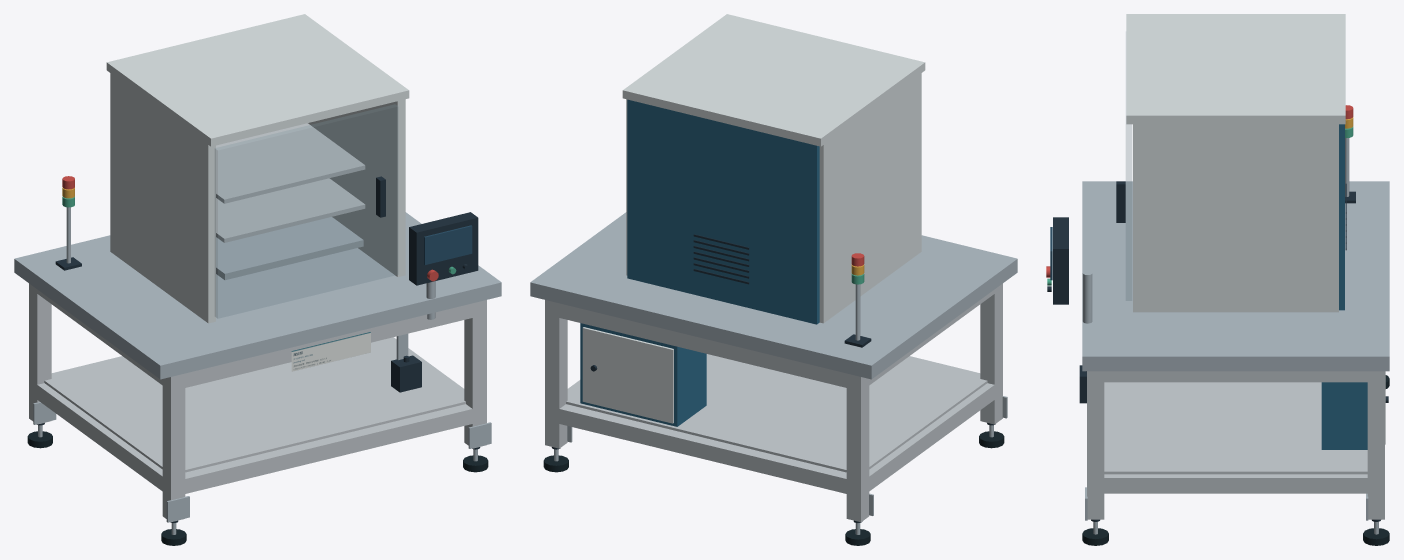
File: proofing-cell.glb
3 renders of one model, left to right at view 1: azimuth 30°, elevation 25°; view 2: azimuth 150°, elevation 25°; view 3: azimuth 270°, elevation 25°, orthographic. The views are drawn at different scales.
Parts seen in each view (by area): view 1: ClosedMachineBed_28, DoorFrame_52, LowerShelf_29, ClosedRoof_51, EnclosureSide_48, EnclosureSide_49, InternalRack_56, SlottedExtrusion_22, InternalRack_55, ProcessShelf_54, SlottedExtrusion_23, SlottedExtrusion_8 (+8 smaller); view 2: ClosedBack_50, ClosedMachineBed_28, ClosedRoof_51, LowerShelf_29, EnclosureSide_48, BackDoor_31, SlottedExtrusion_20, SlottedExtrusion_21, SlottedExtrusion_3, Cabinet_30, SlottedExtrusion_13, SlottedExtrusion_24 (+2 smaller); view 3: EnclosureSide_49, ClosedMachineBed_28, ClosedRoof_51, LowerShelf_29, SlottedExtrusion_26, SlottedExtrusion_27, Cabinet_30, SlottedExtrusion_18, SlottedExtrusion_13, ConsoleBack_34, ClosedBack_50, DoorFrame_52 (+2 smaller).
Part boxes in pixels (left/top/right/bottom): ClosedMachineBed_28: left=14, top=212, right=501, bottom=379; DoorFrame_52: left=215, top=104, right=398, bottom=318; LowerShelf_29: left=44, top=338, right=465, bottom=472; ClosedRoof_51: left=106, top=14, right=409, bottom=146; EnclosureSide_48: left=110, top=73, right=215, bottom=323; EnclosureSide_49: left=308, top=99, right=405, bottom=276; InternalRack_56: left=216, top=123, right=365, bottom=203; SlottedExtrusion_22: left=178, top=404, right=476, bottom=495; InternalRack_55: left=216, top=178, right=365, bottom=242; ProcessShelf_54: left=216, top=217, right=363, bottom=280; SlottedExtrusion_23: left=178, top=303, right=472, bottom=388; SlottedExtrusion_8: left=162, top=373, right=185, bottom=522; ClosedBack_50: left=627, top=99, right=819, bottom=324; ClosedMachineBed_28: left=530, top=212, right=1017, bottom=379; ClosedRoof_51: left=622, top=14, right=925, bottom=146; LowerShelf_29: left=566, top=354, right=987, bottom=472; EnclosureSide_48: left=819, top=73, right=921, bottom=323; BackDoor_31: left=582, top=327, right=673, bottom=423; SlottedExtrusion_20: left=553, top=404, right=853, bottom=494; SlottedExtrusion_21: left=559, top=303, right=853, bottom=387; SlottedExtrusion_3: left=846, top=373, right=869, bottom=522; Cabinet_30: left=580, top=323, right=706, bottom=426; SlottedExtrusion_13: left=545, top=300, right=567, bottom=448; SlottedExtrusion_24: left=865, top=383, right=994, bottom=493; EnclosureSide_49: left=1133, top=124, right=1338, bottom=312; ClosedMachineBed_28: left=1082, top=181, right=1389, bottom=371; ClosedRoof_51: left=1126, top=14, right=1345, bottom=124; LowerShelf_29: left=1104, top=382, right=1367, bottom=474; SlottedExtrusion_26: left=1095, top=474, right=1376, bottom=493; SlottedExtrusion_27: left=1095, top=371, right=1376, bottom=382; Cabinet_30: left=1321, top=382, right=1367, bottom=449; SlottedExtrusion_18: left=1087, top=371, right=1104, bottom=519; SlottedExtrusion_13: left=1367, top=371, right=1384, bottom=519; ConsoleBack_34: left=1053, top=217, right=1068, bottom=304; ClosedBack_50: left=1339, top=124, right=1344, bottom=310; DoorFrame_52: left=1126, top=124, right=1131, bottom=300.
Bounding box in the file's own units: 1.55 × 1.64 × 1.29.
12 materials, 1 textured.
